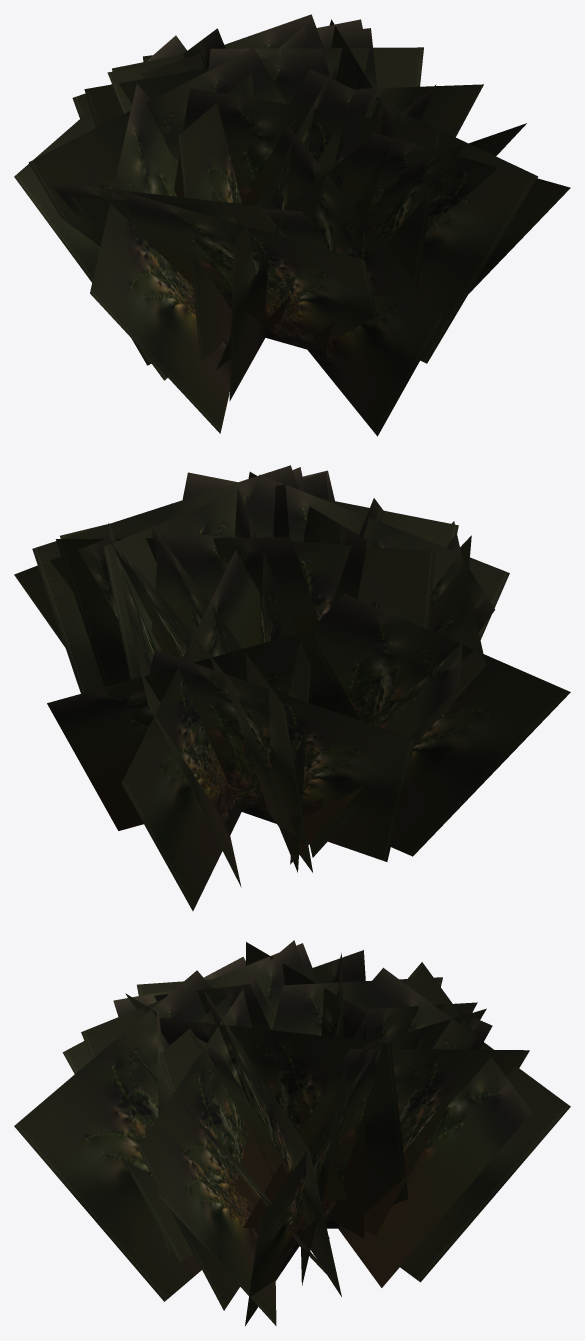
The model's file is TallGrass.glb.
The picture shows the model from 3 angles, top to bottom: view 1: azimuth 30°, elevation 25°; view 2: azimuth 150°, elevation 25°; view 3: azimuth 270°, elevation 25°; orthographic projection. The views are drawn at different scales.
Visible parts, largest first — view 1: Plane.007; view 2: Plane.007; view 3: Plane.007.
Boxes of the visible parts, bbox=[...] form: Plane.007: bbox=[14, 14, 570, 436]; Plane.007: bbox=[14, 465, 570, 910]; Plane.007: bbox=[14, 940, 570, 1325].
Size of the model in its own units: 4.43 by 2.94 by 4.63.
Materials: 1 (1 with a texture image).
